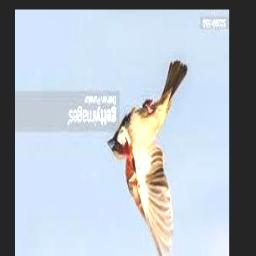Sparrow: (108, 61, 188, 256)
